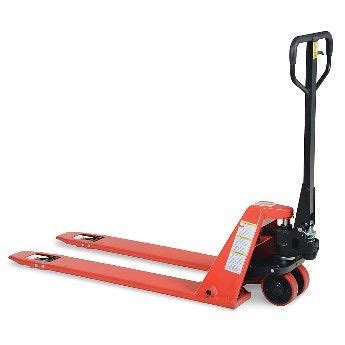Pallet Jack: (7, 31, 333, 309)
